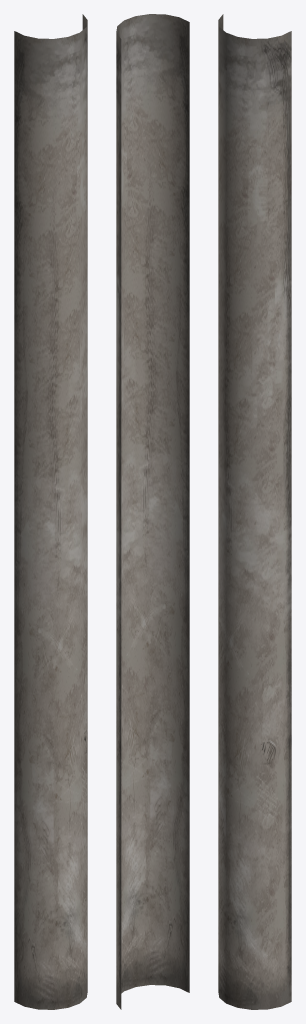
Rendered from colonne_simple.fbx.
3 renders of one model, left to right at view 1: azimuth 30°, elevation 25°; view 2: azimuth 210°, elevation 25°; view 3: azimuth 330°, elevation 25°, orthographic.
Visible parts, largest first — view 1: polySurface318; view 2: polySurface318; view 3: polySurface318.
Boxes of the visible parts, <box> form: polySurface318: <box>14,14,87,1009</box>; polySurface318: <box>116,14,189,1009</box>; polySurface318: <box>218,14,291,1009</box>.
Size of the model in its own units: 46.8 by 633 by 23.4.
